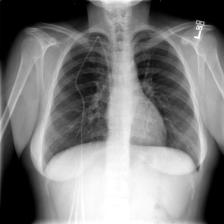normal: (40, 28, 203, 175)
